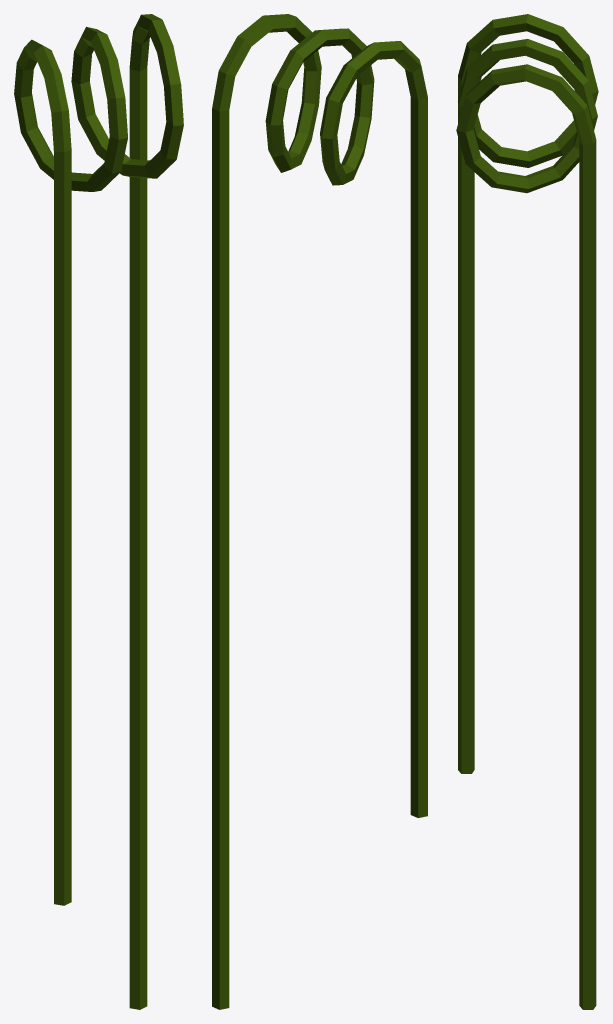
File: Prop_Vegetation_Jungle_Vine_Wraped_02.FBX
The picture shows the model from 3 angles, left to right: view 1: azimuth 30°, elevation 25°; view 2: azimuth 150°, elevation 25°; view 3: azimuth 270°, elevation 25°; orthographic projection. The views are drawn at different scales.
Parts seen in each view (by area): view 1: Prop_Vegetation_Jungle_Vine_Wraped_02; view 2: Prop_Vegetation_Jungle_Vine_Wraped_02; view 3: Prop_Vegetation_Jungle_Vine_Wraped_02.
Boxes of the visible parts, x1,y1,x2,y2 form: Prop_Vegetation_Jungle_Vine_Wraped_02: (14,14,183,1009); Prop_Vegetation_Jungle_Vine_Wraped_02: (212,14,427,1009); Prop_Vegetation_Jungle_Vine_Wraped_02: (456,14,598,1009).
Size of the model in its own units: 675 by 4174 by 576.
